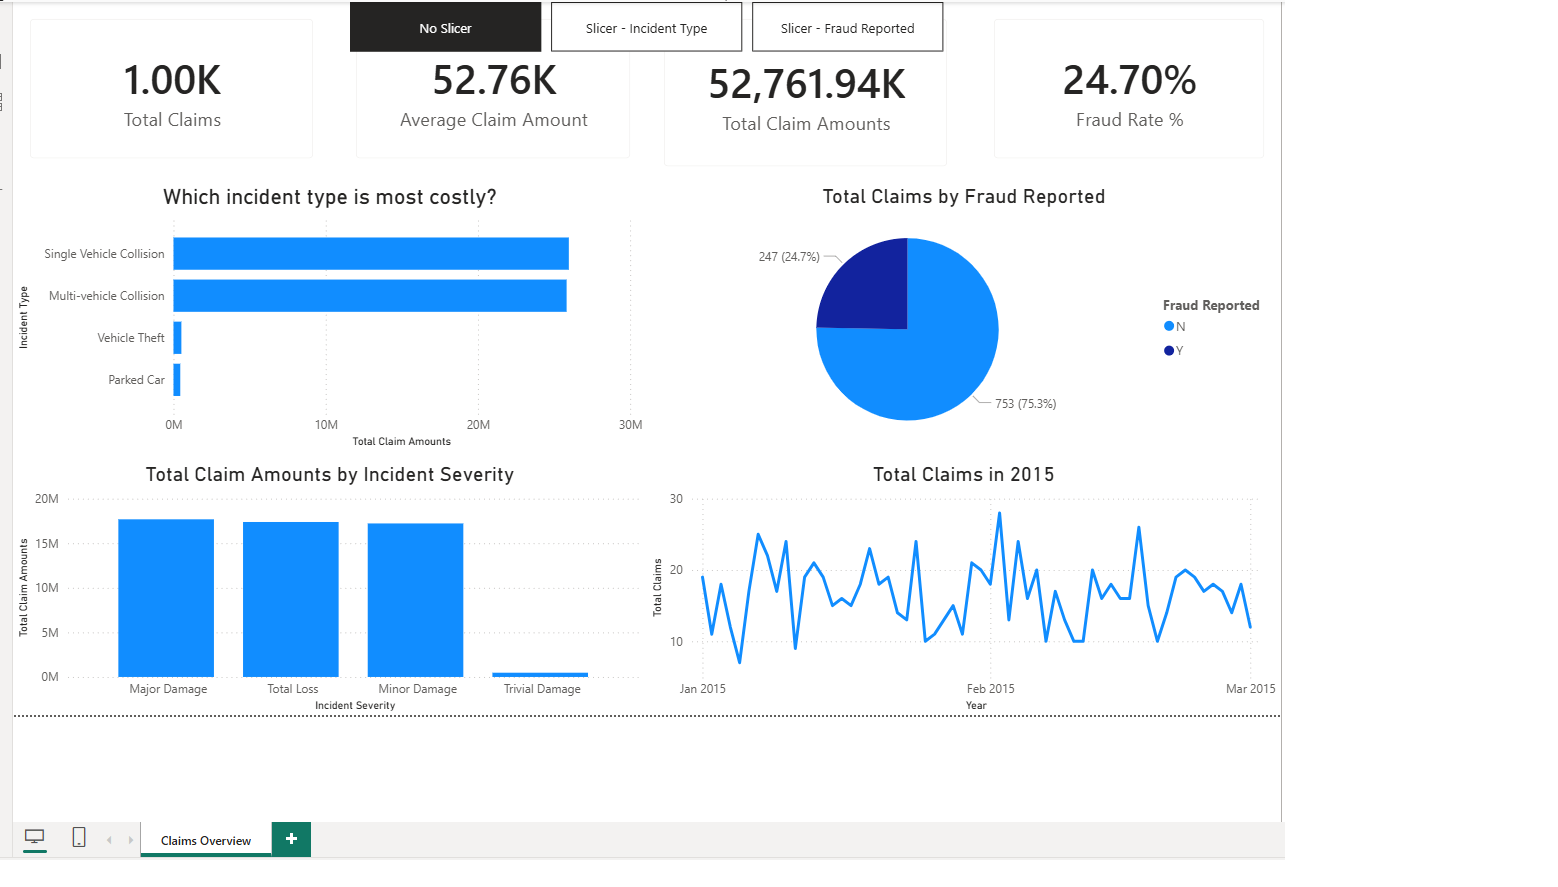

Layout of this report page (visuals, bound fields, positions):
{"tool":"powerbi","page":{"name":"Claims Overview","canvas":[1280,720],"ordinal":0},"visuals":[{"type":"cardVisual","fields":{"Data":["insurance_claims_data.Total Claims"]},"box":[0,0,320,175.1],"z":0},{"type":"cardVisual","fields":{"Data":["insurance_claims_data.Total Claim Amounts"]},"box":[640,0,320,183.8],"z":1000},{"type":"cardVisual","fields":{"Data":["insurance_claims_data.Average Claim Amount"]},"box":[328.8,0,311.2,175.1],"z":2000},{"type":"cardVisual","fields":{"Data":["insurance_claims_data.Fraud Rate %"]},"box":[972.6,0,307.4,175.1],"z":3000},{"type":"clusteredBarChart","title":"Which incident type is most costly?","fields":{"Y":["insurance_claims_data.Total Claim Amounts"],"Category":["insurance_claims_data.Incident Type"]},"box":[0,183.8,640,270.4],"z":4000},{"type":"clusteredColumnChart","fields":{"Category":["insurance_claims_data.Incident Severity"],"Y":["insurance_claims_data.Total Claim Amounts"]},"box":[0,464,640,256],"z":5000},{"type":"pieChart","fields":{"Category":["insurance_claims_data.Fraud Reported"],"Y":["insurance_claims_data.Total Claims"]},"box":[640,183.8,640,270.4],"z":6000},{"type":"lineChart","title":"Total Claims in 2015","fields":{"Y":["insurance_claims_data.Total Claims"],"Category":["insurance_claims_data.Incident Date.Variation.Date Hierarchy.Year","insurance_claims_data.Incident Date.Variation.Date Hierarchy.Quarter","insurance_claims_data.Incident Date.Variation.Date Hierarchy.Month","insurance_claims_data.Incident Date.Variation.Date Hierarchy.Day"]},"box":[640,464,640,256],"z":7000},{"type":"bookmarkNavigator","box":[340,0,600.1,50.2],"z":11001}]}

Visuals, with their boxes on the page's 1280x720 design canvas (x1, y1, x2, y2). These are canvas units, not pixel positions in the 1558x887 screenshot, which may show the page scaled, cropped or inside an application window:
cardVisual - insurance_claims_data.Total Claims: (x1=0, y1=0, x2=320, y2=175)
cardVisual - insurance_claims_data.Total Claim Amounts: (x1=640, y1=0, x2=960, y2=184)
cardVisual - insurance_claims_data.Average Claim Amount: (x1=329, y1=0, x2=640, y2=175)
cardVisual - insurance_claims_data.Fraud Rate %: (x1=973, y1=0, x2=1280, y2=175)
"Which incident type is most costly?" clusteredBarChart: (x1=0, y1=184, x2=640, y2=454)
clusteredColumnChart - insurance_claims_data.Incident Severity x insurance_claims_data.Total Claim Amounts: (x1=0, y1=464, x2=640, y2=720)
pieChart - insurance_claims_data.Fraud Reported x insurance_claims_data.Total Claims: (x1=640, y1=184, x2=1280, y2=454)
"Total Claims in 2015" lineChart: (x1=640, y1=464, x2=1280, y2=720)
bookmarkNavigator: (x1=340, y1=0, x2=940, y2=50)
